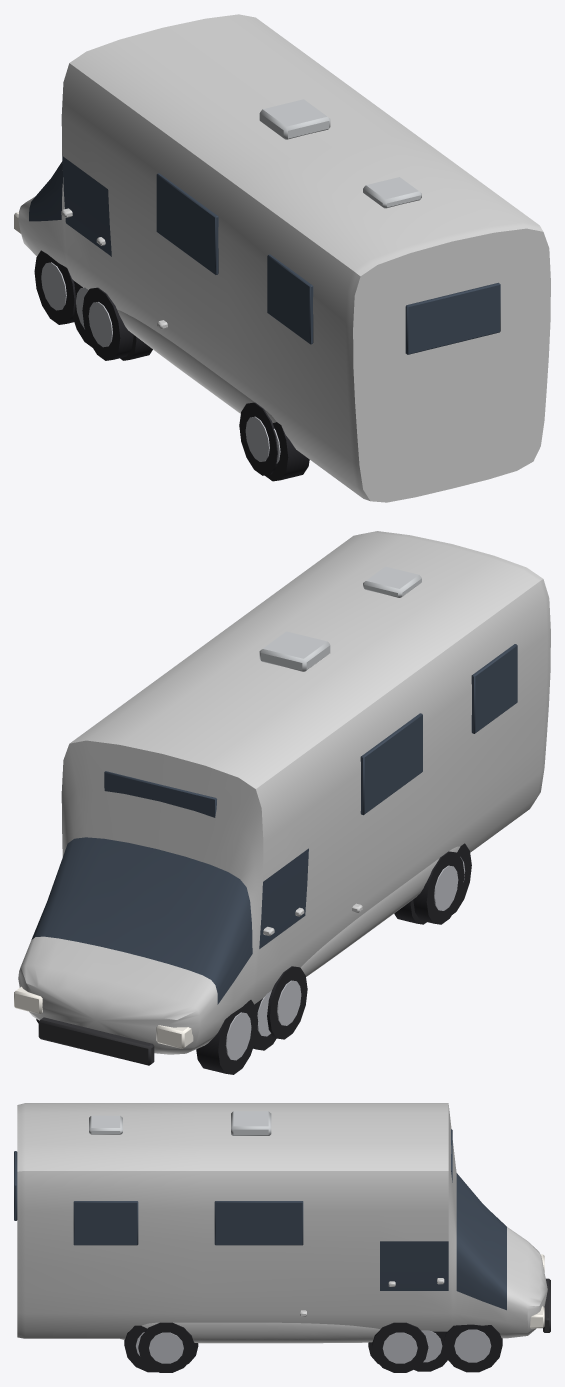
File: fahrzeuge.glb
3 views of the same model, one above another, from view 1: azimuth 30°, elevation 25°; view 2: azimuth 150°, elevation 25°; view 3: azimuth 270°, elevation 25° (orthographic). The views are drawn at different scales.
Parts seen in each view (by area): view 1: caravan_lack, caravan_rest, sport_rest, sport_lack; view 2: caravan_lack, caravan_rest, sport_rest, sport_lack, caravan_licht, van_rest; view 3: caravan_lack, caravan_rest, sport_rest, sport_lack, van_rest.
Part boxes in pixels (box(x1,y1,x2,y2)): caravan_lack: box(18, 14, 550, 502); caravan_rest: box(29, 99, 500, 481); sport_rest: box(82, 287, 277, 475); sport_lack: box(117, 309, 276, 422); caravan_lack: box(18, 531, 550, 1054); caravan_rest: box(31, 566, 517, 1074); sport_rest: box(267, 851, 464, 1039); sport_lack: box(300, 846, 460, 976); caravan_licht: box(14, 986, 193, 1048); van_rest: box(253, 990, 276, 1050); caravan_lack: box(17, 1103, 547, 1338); caravan_rest: box(14, 1111, 550, 1372); sport_rest: box(138, 1322, 428, 1372); sport_lack: box(120, 1310, 380, 1343); van_rest: box(414, 1330, 447, 1371).
Bounding box in the file's own units: 2.24 × 3.01 × 6.66.
